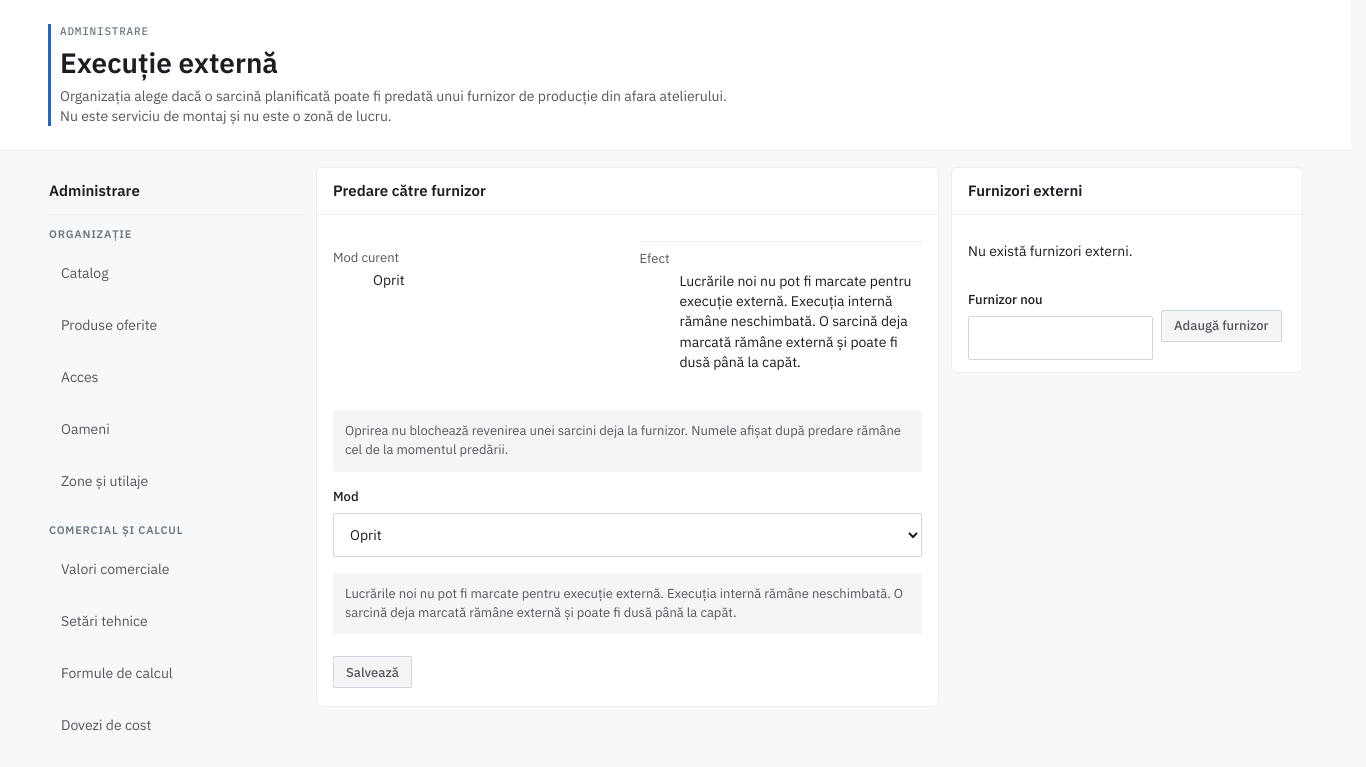
Test: ExternalProductionAdminPage › shows the disabled mode and lets an owner add a provider
Check: the text "Mod curent" is shown, box [333,249,399,266]
Check: the text "Oprit" is shown, box [373,271,405,289]
Type "Atelier Extern" into the field labelled "Furnizor nou" at (1060, 338), box [968,316,1153,360]
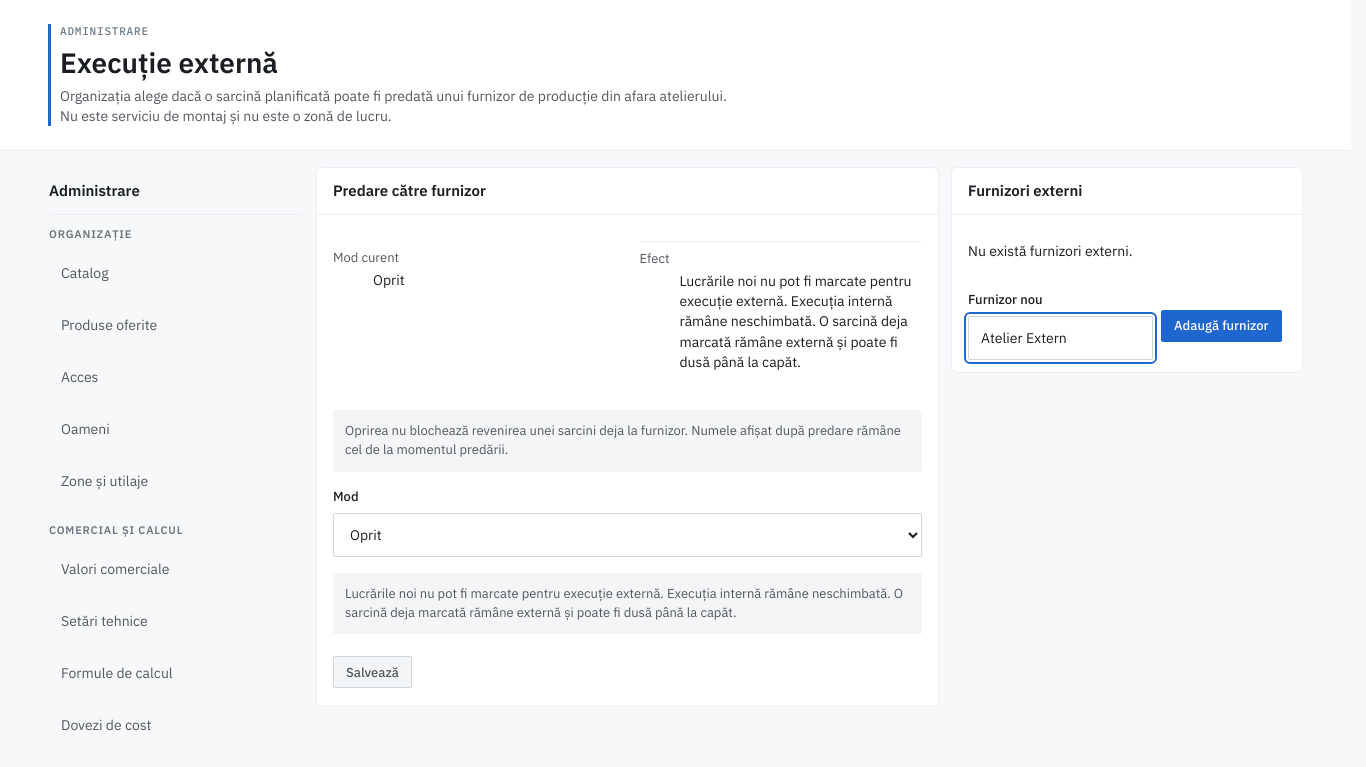
Click the button "Adaugă furnizor" at (1221, 326), box [1161,304,1282,348]
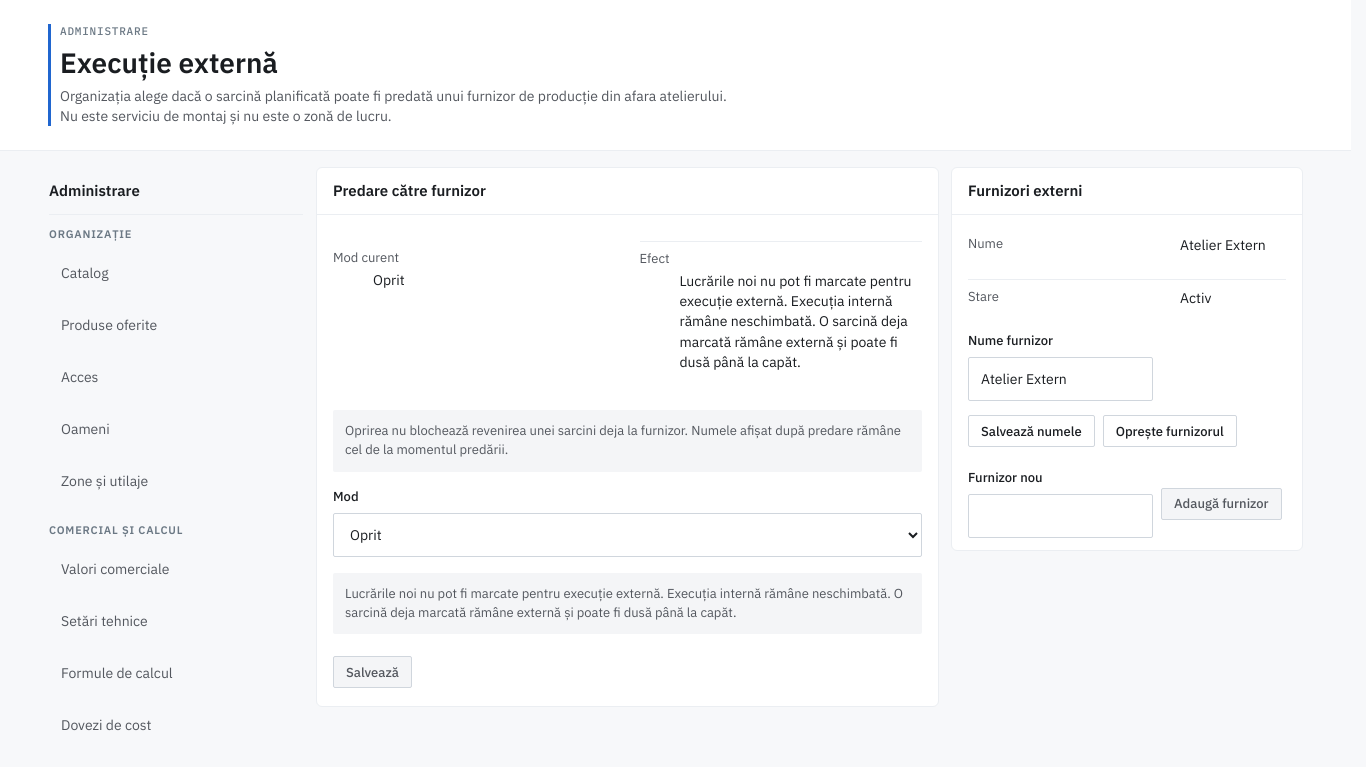
Check: the text "Atelier Extern" is shown, box [1180,236,1266,254]
Check: the button "Oprește furnizorul" is shown, box [1103,409,1237,453]
